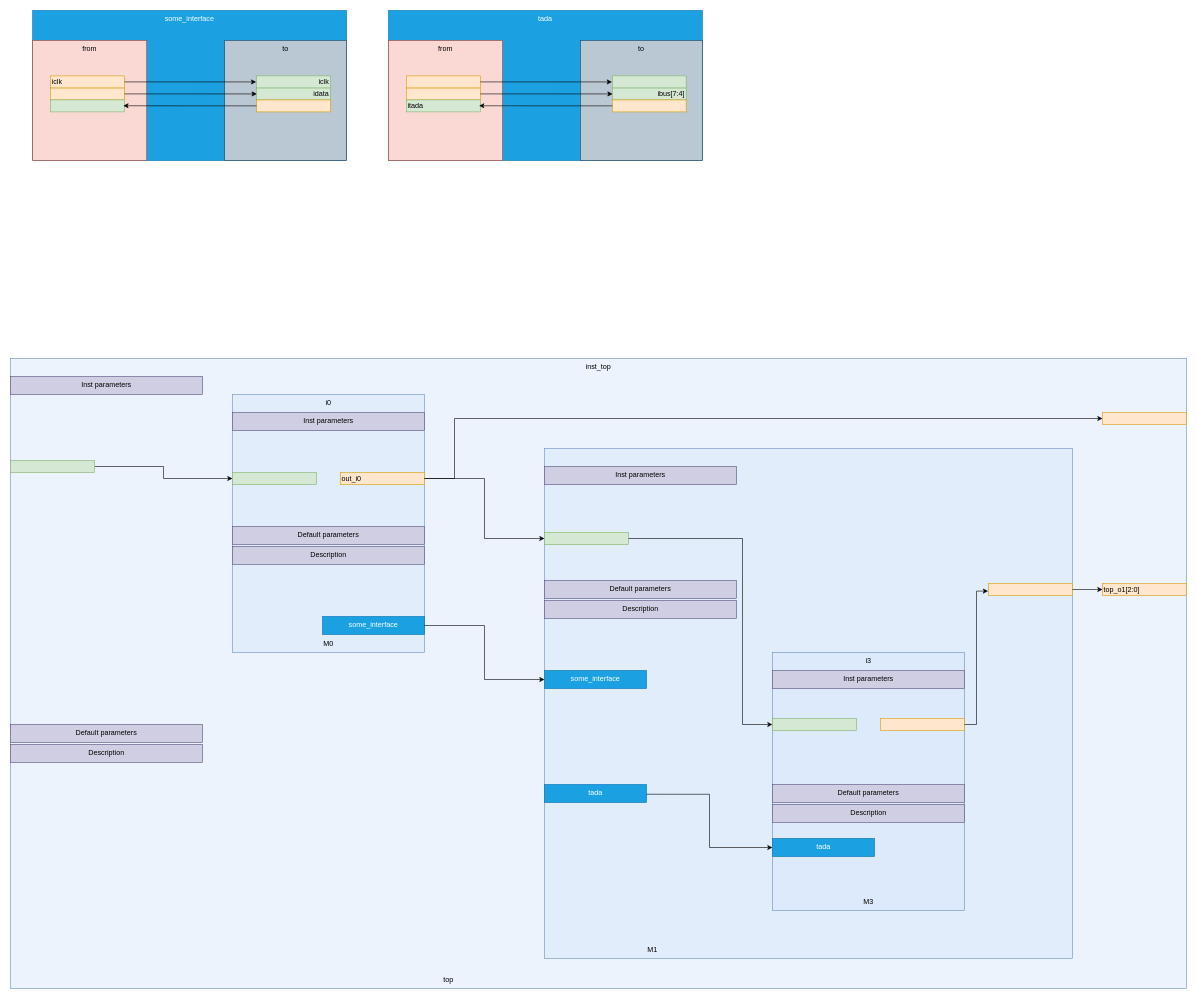
Image size: 1197x999. Some labels were removed from this diagram. The shapes that lost their labels are listed below. From the top down, each one's box as (x1, y1, x2, y2) in pixels, then its label:
(50, 87, 124, 100): odata[7:0]
(406, 75, 480, 88): otada_single
(406, 87, 480, 100): otada_bus[7:4]
(612, 75, 686, 88): isingle
(50, 99, 124, 112): iack
(256, 99, 330, 112): oready
(612, 99, 686, 112): otada
(1102, 412, 1186, 424): top_o0
(10, 460, 94, 472): top_in[4:9]
(232, 472, 316, 484): i0_port[4:9]
(544, 532, 628, 544): i1_someport
(988, 583, 1072, 596): out_i1[2:0]
(544, 448, 1072, 958): i1
(772, 718, 856, 730): i3_port
(880, 718, 964, 730): out_i3[2:0]
